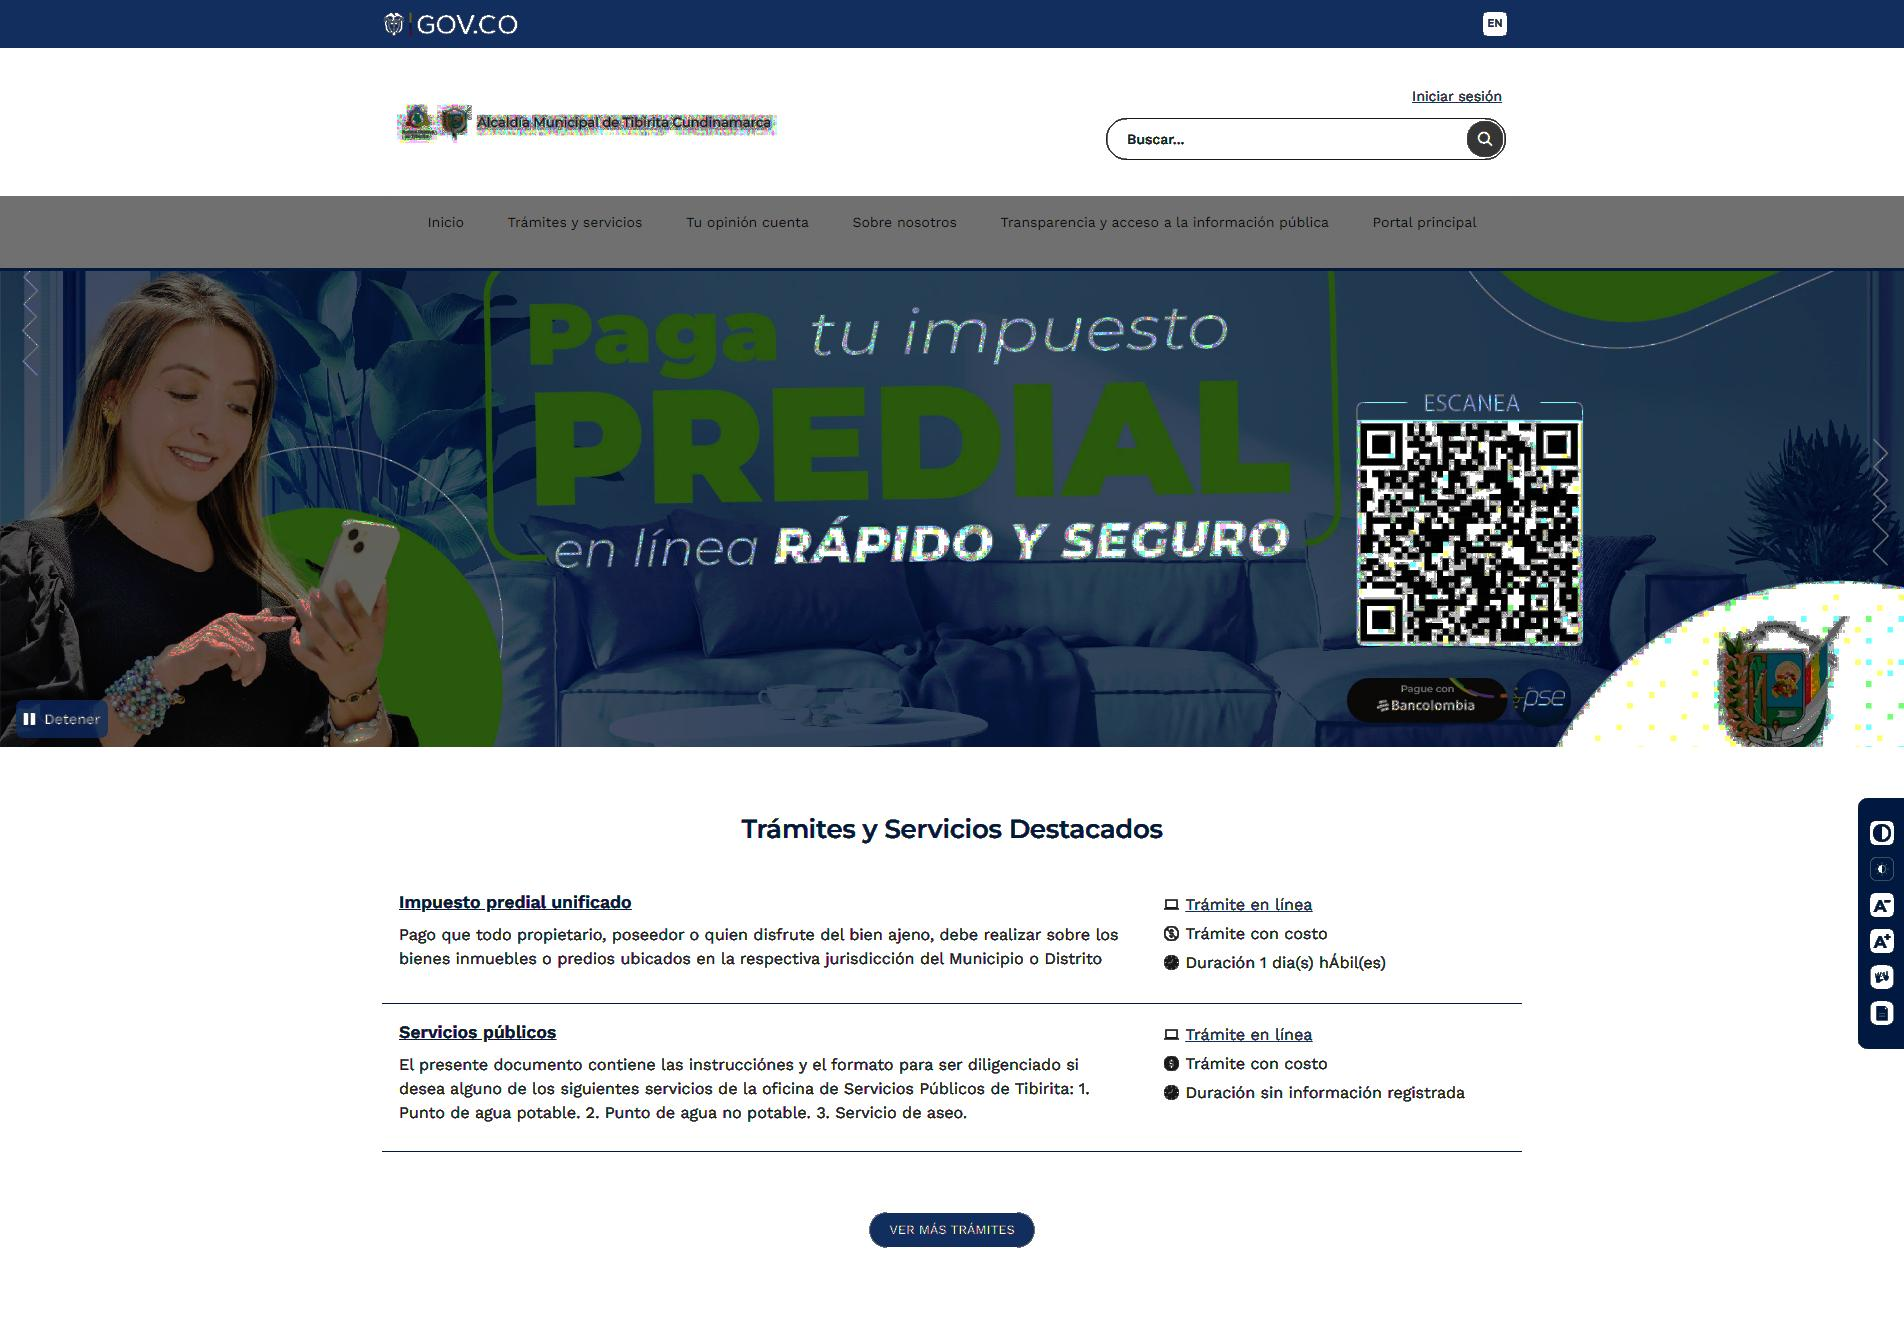banner principal: (0, 263, 1900, 754)
barra accesibilidad: (1857, 793, 1904, 1052)
barra govco: (379, 1, 1510, 50)
btn buscador: (1105, 114, 1511, 162)
btn idiomas: (1480, 11, 1508, 37)
btn inicio: (425, 213, 465, 231)
btn inicio sesion: (1408, 86, 1504, 107)
btn tramites: (735, 808, 1177, 851), (867, 1208, 1037, 1250), (506, 211, 648, 232)
btn transpariencia: (998, 214, 1330, 233)
logogovco: (381, 8, 522, 40)
menu principal: (423, 207, 1480, 241)
